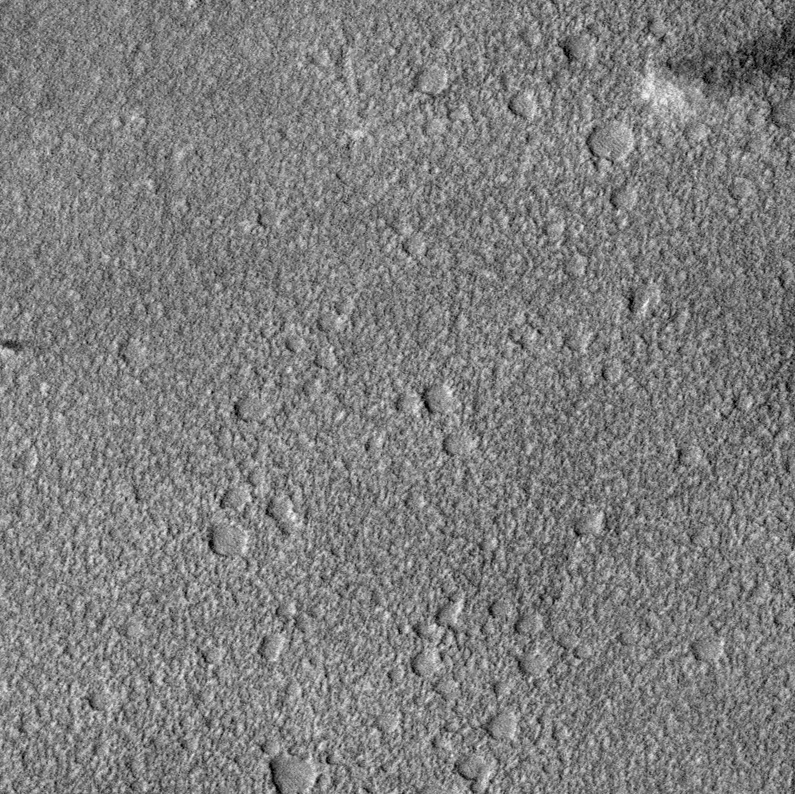dust_devil: (636, 14, 795, 118)
